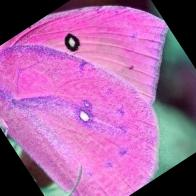butterfly: (0, 6, 168, 196)
